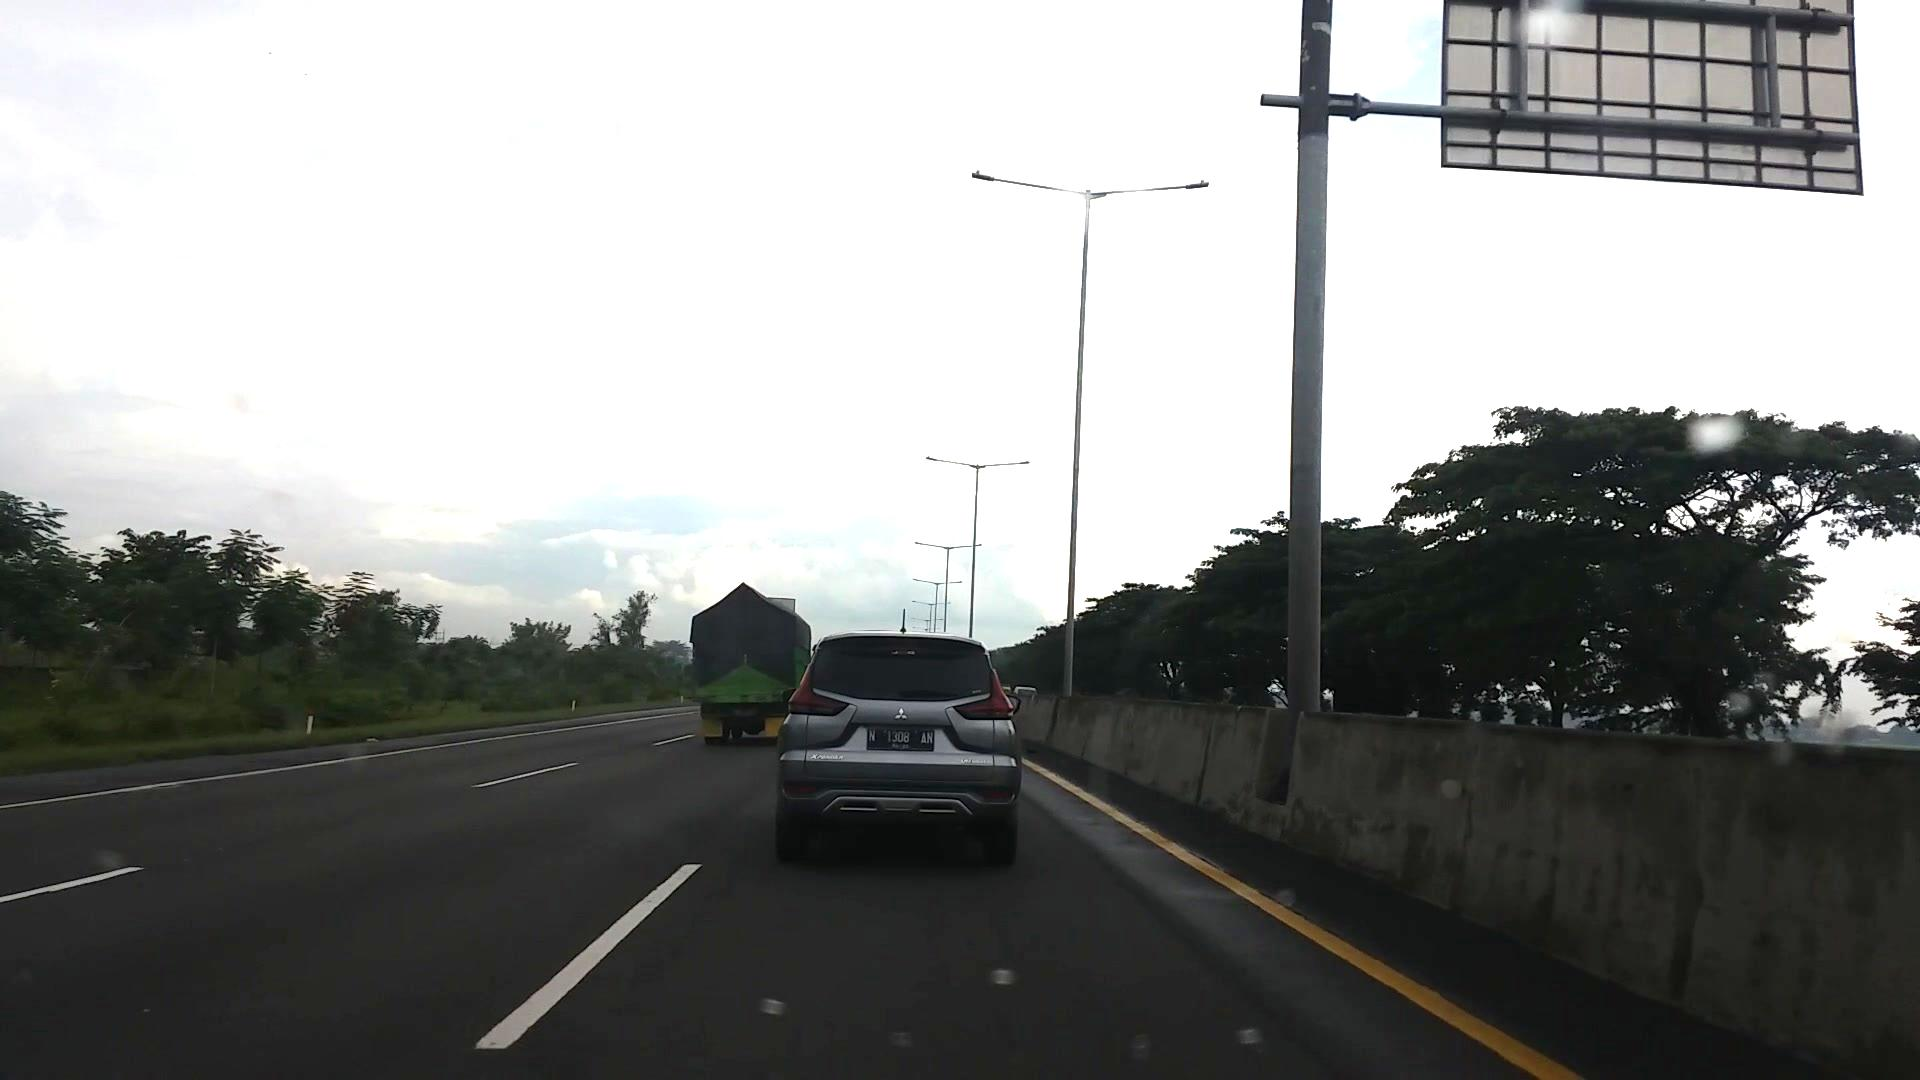plate_positive: (866, 727, 934, 752)
